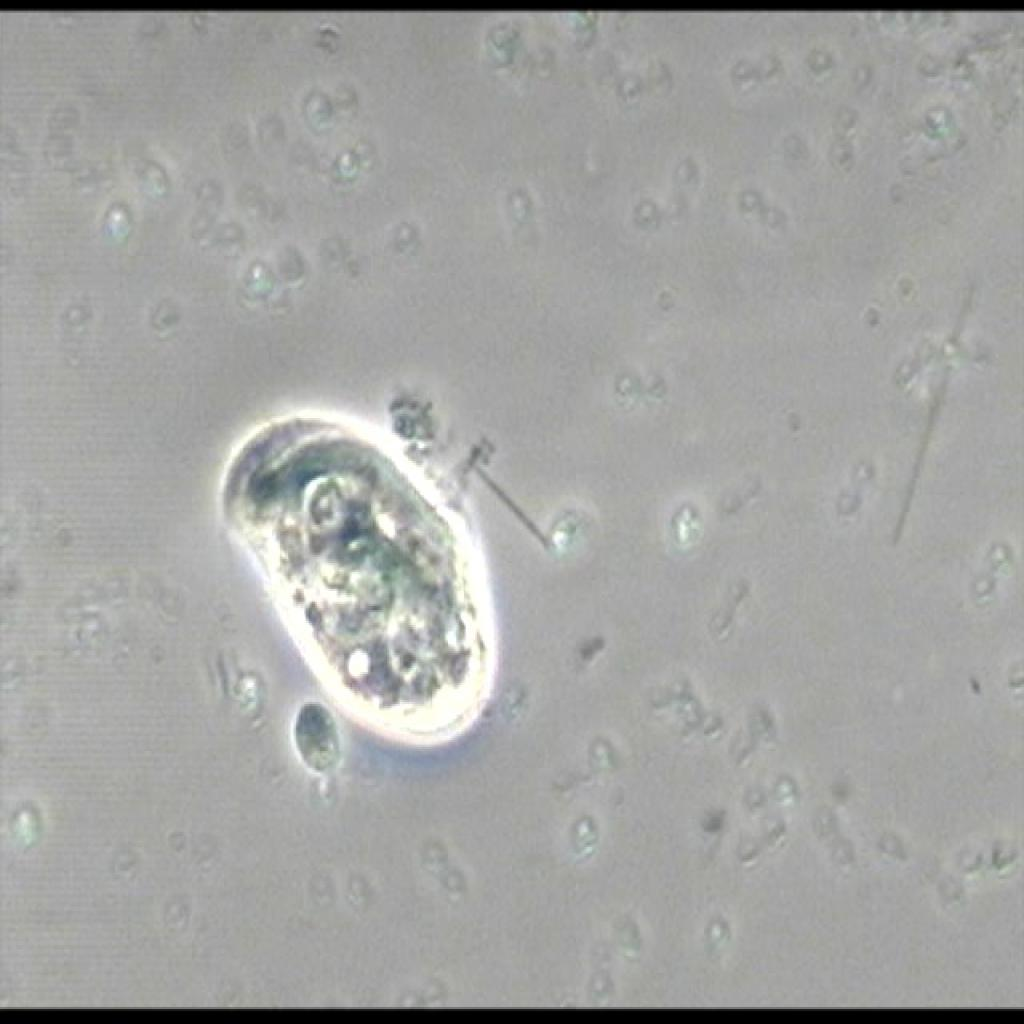Chilodonella: (176, 381, 522, 754)
